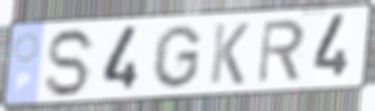4: (99, 23, 146, 97), (311, 10, 355, 85)
G: (149, 23, 204, 91)
K: (207, 21, 251, 87)
R: (255, 18, 308, 87)
S: (44, 26, 99, 100)
